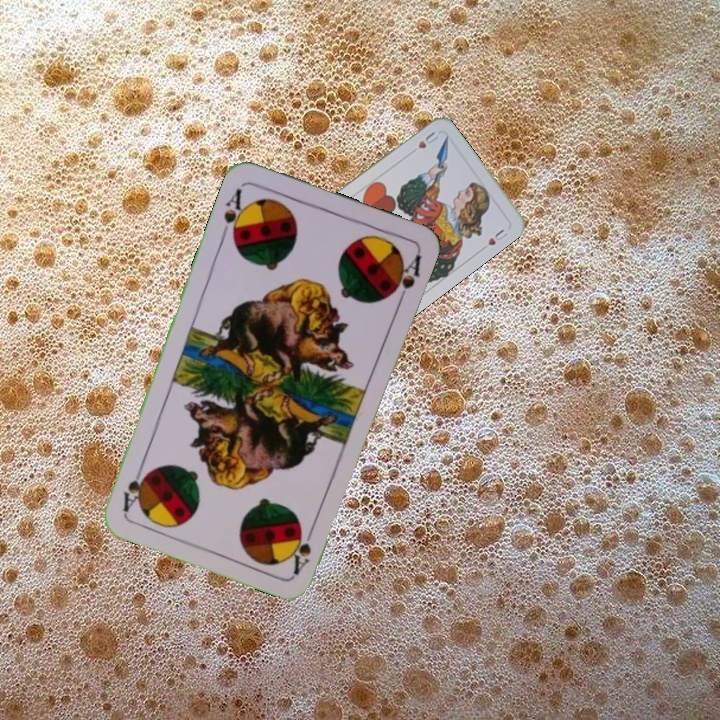HU: (414, 127, 441, 151)
SA: (217, 184, 251, 243), (287, 519, 318, 577)
